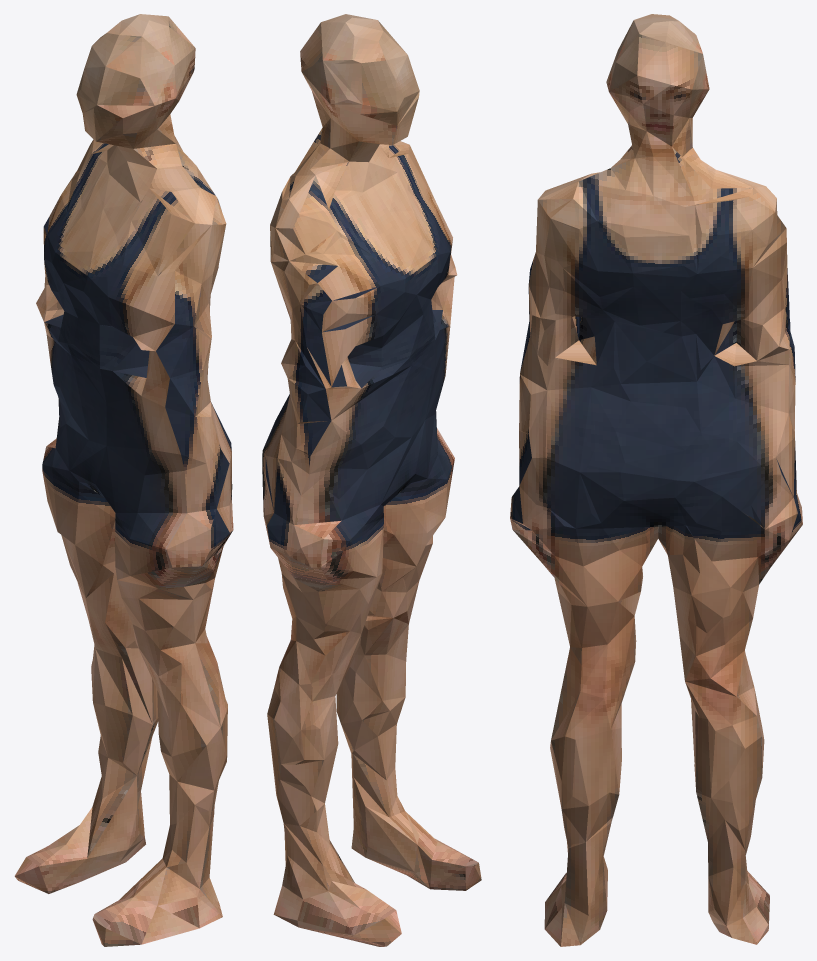
File: mujer_5.glb
3 renders of one model, left to right at view 1: azimuth 30°, elevation 25°; view 2: azimuth 150°, elevation 25°; view 3: azimuth 270°, elevation 25°, orthographic. The views are drawn at different scales.
Visible parts, largest first — view 1: personaje.base.cuerpo_comun; view 2: personaje.base.cuerpo_comun; view 3: personaje.base.cuerpo_comun.
Boxes of the visible parts, bbox=[...] form: personaje.base.cuerpo_comun: bbox=[14, 14, 233, 946]; personaje.base.cuerpo_comun: bbox=[262, 14, 481, 946]; personaje.base.cuerpo_comun: bbox=[510, 14, 802, 946].
Size of the model in its own units: 0.3001 by 1.7 by 0.4905.
Materials: 1 (1 with a texture image).
